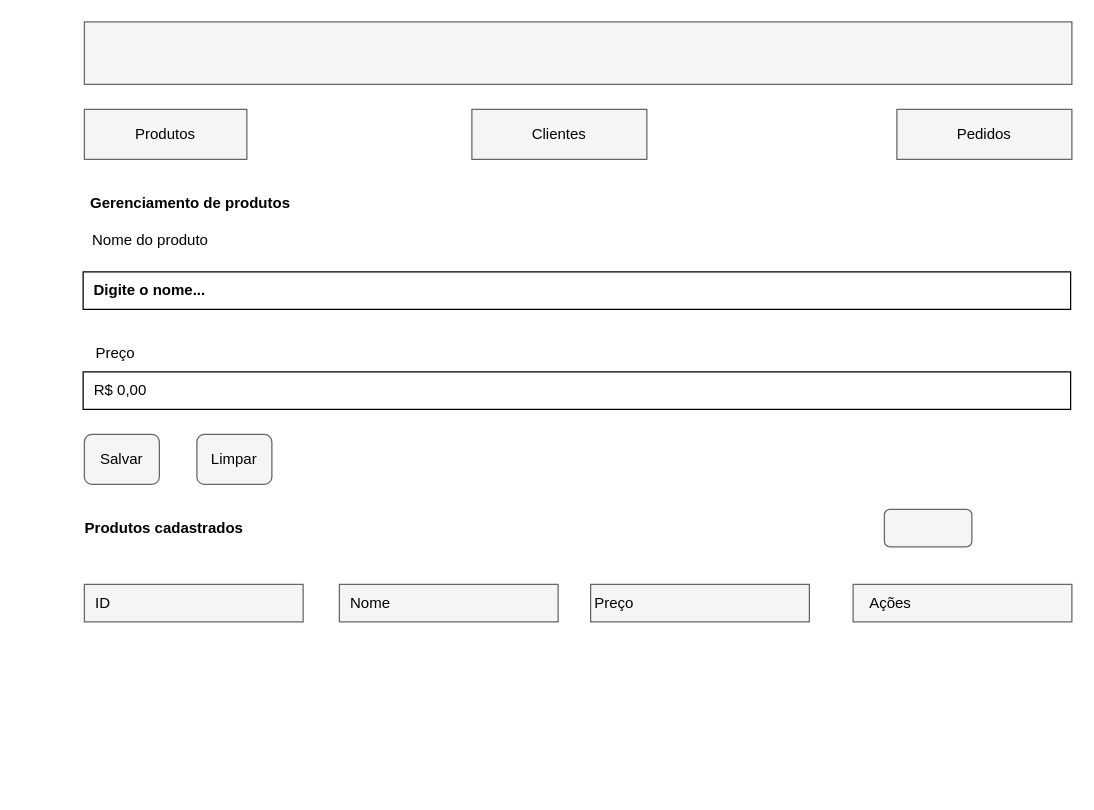
This 1094x810 diagram has some shape labels left out. Here are the shapes that lost their labels. From the top down, the centre of each, then its label:
At (577,52): "BoloSystem — Sistema de Gestão de Bolos".
At (927,527): "Atualizar".
